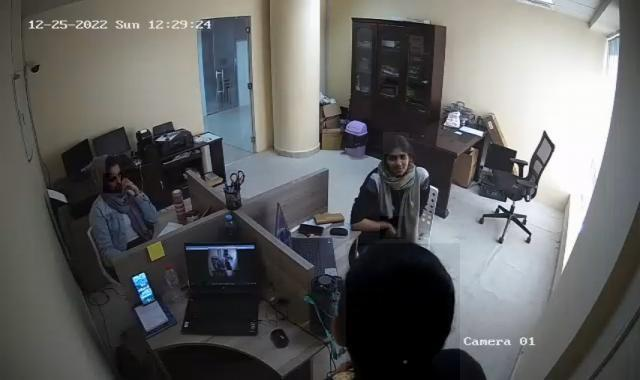no_apron: (380, 217, 406, 240), (124, 175, 146, 201)
no_gloves: (346, 243, 460, 380), (384, 132, 409, 177), (90, 158, 123, 188)
no_hairnet: (385, 154, 412, 178), (103, 173, 122, 193)
